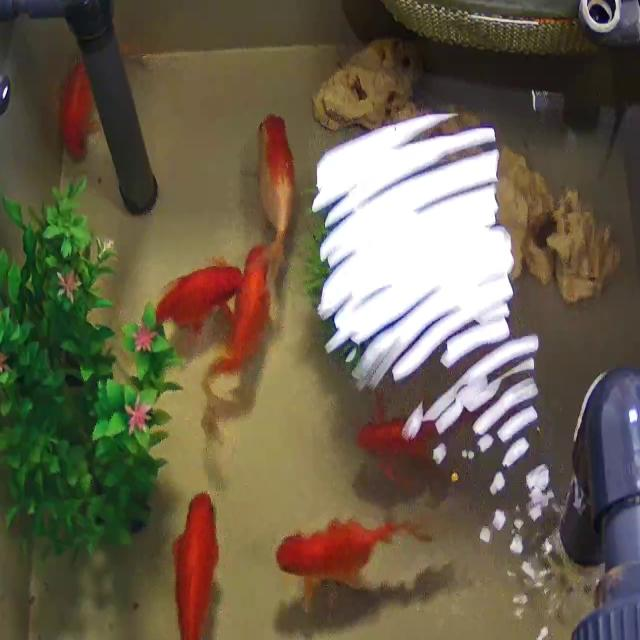fish: (260, 512, 436, 585), (203, 249, 270, 424), (341, 399, 461, 487), (165, 487, 227, 640), (137, 252, 244, 328), (256, 112, 301, 268), (51, 61, 102, 171)
